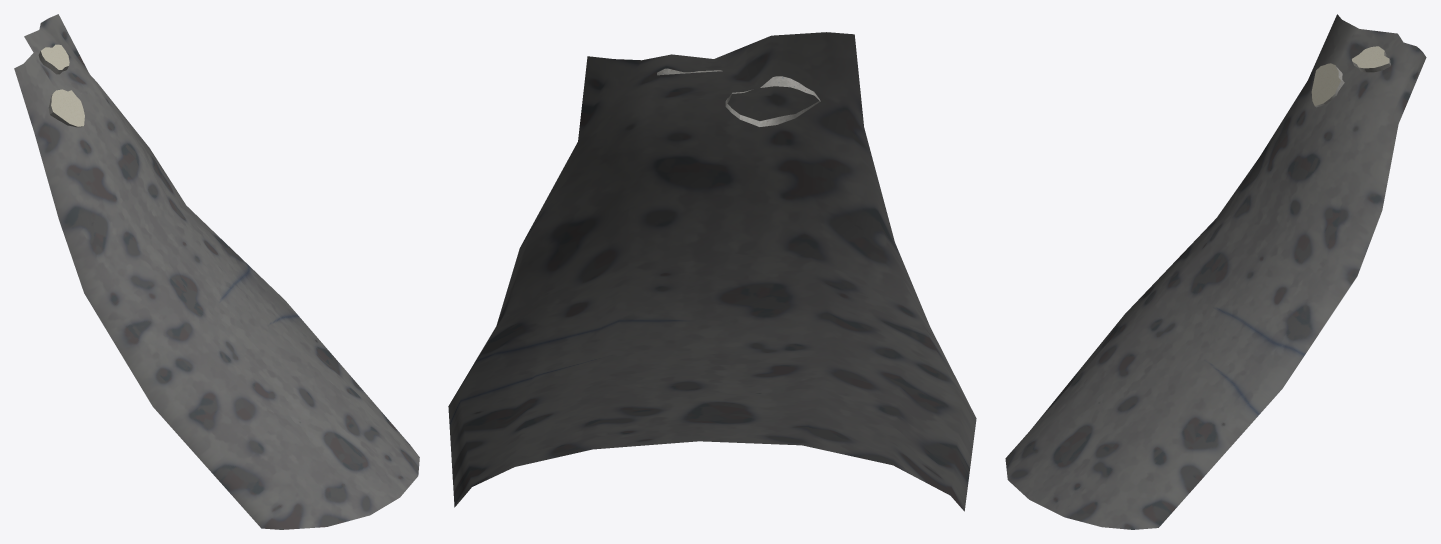
Rendered from PatientRoomUpdateRamp.fbx.
3 renders of one model, left to right at view 1: azimuth 30°, elevation 25°; view 2: azimuth 150°, elevation 25°; view 3: azimuth 270°, elevation 25°, orthographic. The views are drawn at different scales.
Parts seen in each view (by area): view 1: pCube153, Floor_1:pCube157, Floor_1:pCube156; view 2: pCube153, Floor_1:pCube157; view 3: pCube153, Floor_1:pCube157, Floor_1:pCube156.
Part boxes in pixels (x1,y1,x2,y2): pCube153: (14,14,419,529); Floor_1:pCube157: (48,89,84,127); Floor_1:pCube156: (38,44,69,74); pCube153: (448,32,976,511); Floor_1:pCube157: (725,76,820,126); pCube153: (1005,14,1426,529); Floor_1:pCube157: (1311,63,1344,107); Floor_1:pCube156: (1352,46,1390,72).
Size of the model in its own units: 543 by 659 by 675.
Materials: 2 (2 with a texture image).
